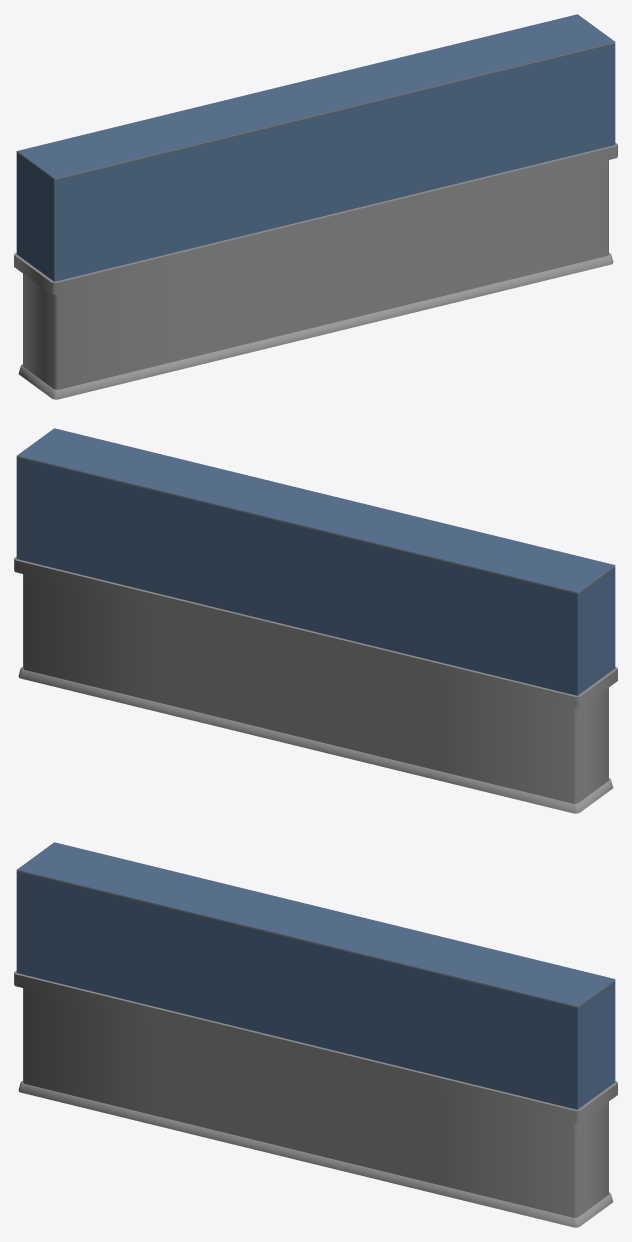
File: ExStand_Long.FBX
3 views of the same model, one above another, from view 1: azimuth 30°, elevation 25°; view 2: azimuth 150°, elevation 25°; view 3: azimuth 330°, elevation 25° (orthographic).
Parts seen in each view (by area): view 1: Glass, Object003, ExStand_Glass; view 2: Glass, Object003, ExStand_Glass; view 3: Glass, Object003, ExStand_Glass.
Part boxes in pixels (<box>): Glass: <box>16,14,615,281</box>; Object003: <box>14,142,617,399</box>; ExStand_Glass: <box>16,20,615,179</box>; Glass: <box>16,428,615,695</box>; Object003: <box>14,556,617,813</box>; ExStand_Glass: <box>16,434,615,593</box>; Glass: <box>16,842,615,1109</box>; Object003: <box>14,970,617,1227</box>; ExStand_Glass: <box>16,848,615,1007</box>.
Size of the model in its own units: 400 by 50 by 150.
